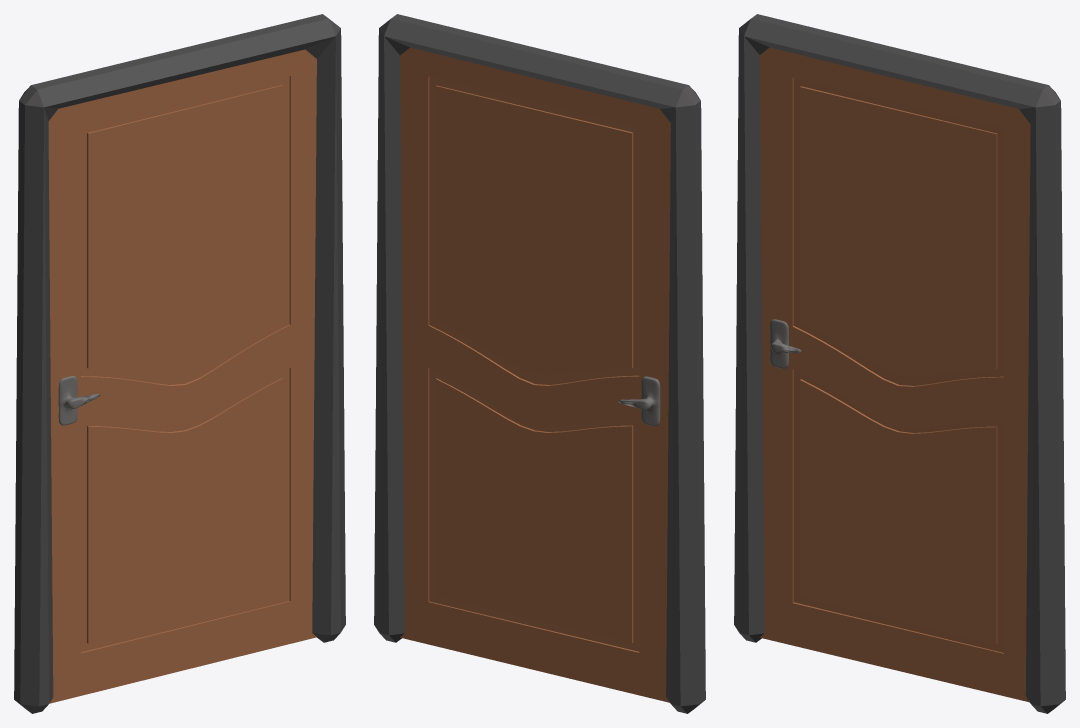
File: Door3.fbx
3 renders of one model, left to right at view 1: azimuth 30°, elevation 25°; view 2: azimuth 150°, elevation 25°; view 3: azimuth 330°, elevation 25°, orthographic.
Parts seen in each view (by area): view 1: Plane.002, Plane.001; view 2: Plane.002, Plane.001; view 3: Plane.002, Plane.001.
Boxes of the visible parts, x1,y1,x2,y2 form: Plane.002: (48, 49, 316, 703); Plane.001: (14, 14, 345, 713); Plane.002: (400, 47, 670, 702); Plane.001: (374, 14, 705, 713); Plane.002: (759, 47, 1030, 702); Plane.001: (734, 14, 1065, 713).
Bounding box in the file's own units: 223 × 408 × 26.15.
